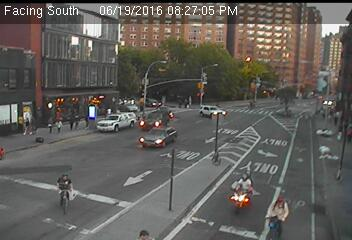neg: (45, 168, 77, 211), (226, 111, 257, 154), (223, 170, 254, 212), (104, 146, 128, 178), (310, 139, 334, 171), (144, 130, 163, 155), (194, 63, 210, 85), (187, 113, 202, 132), (54, 36, 68, 56), (216, 36, 230, 55), (165, 30, 178, 48), (111, 34, 122, 50)
pos: (19, 115, 34, 134), (65, 113, 79, 131), (45, 117, 58, 134), (81, 114, 93, 129), (55, 117, 66, 133), (72, 114, 82, 128), (174, 96, 183, 108), (183, 97, 192, 108)
